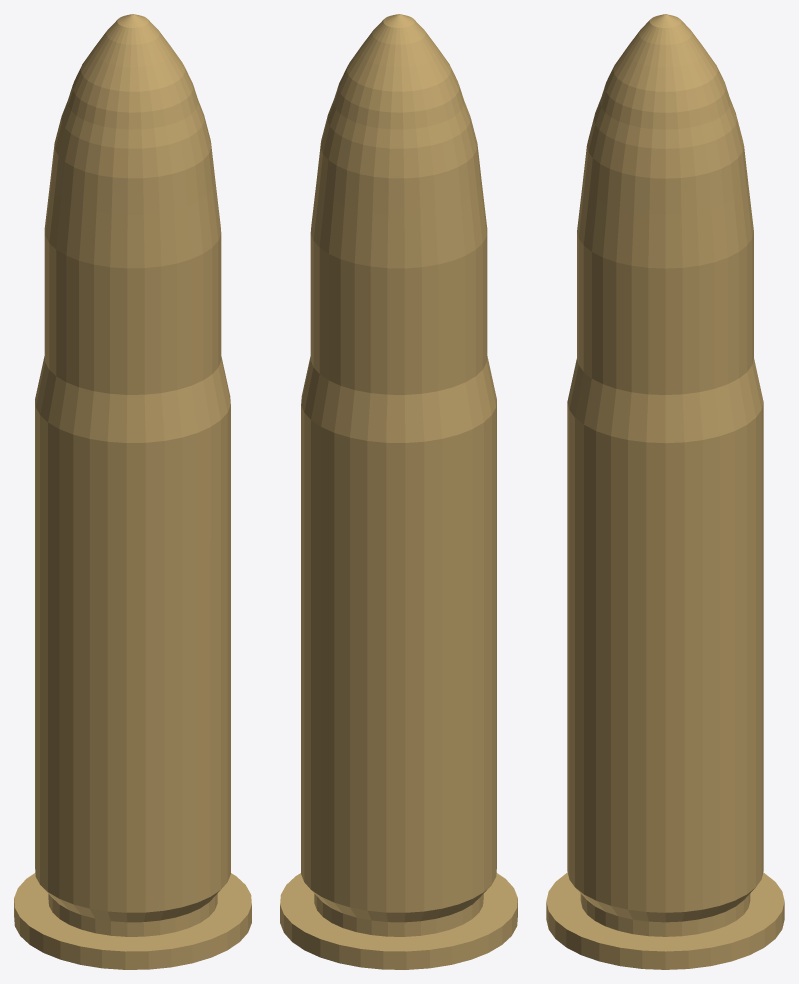
The model's file is Bullet.fbx.
3 views of the same model, side by side, from view 1: azimuth 30°, elevation 25°; view 2: azimuth 150°, elevation 25°; view 3: azimuth 270°, elevation 25° (orthographic).
Parts seen in each view (by area): view 1: Circle; view 2: Circle; view 3: Circle.
Part boxes in pixels (x1,y1,x2,y2): Circle: [14, 14, 251, 969]; Circle: [280, 14, 517, 969]; Circle: [546, 14, 784, 969].
Bounding box in the file's own units: 80.47 × 337 × 80.47.
